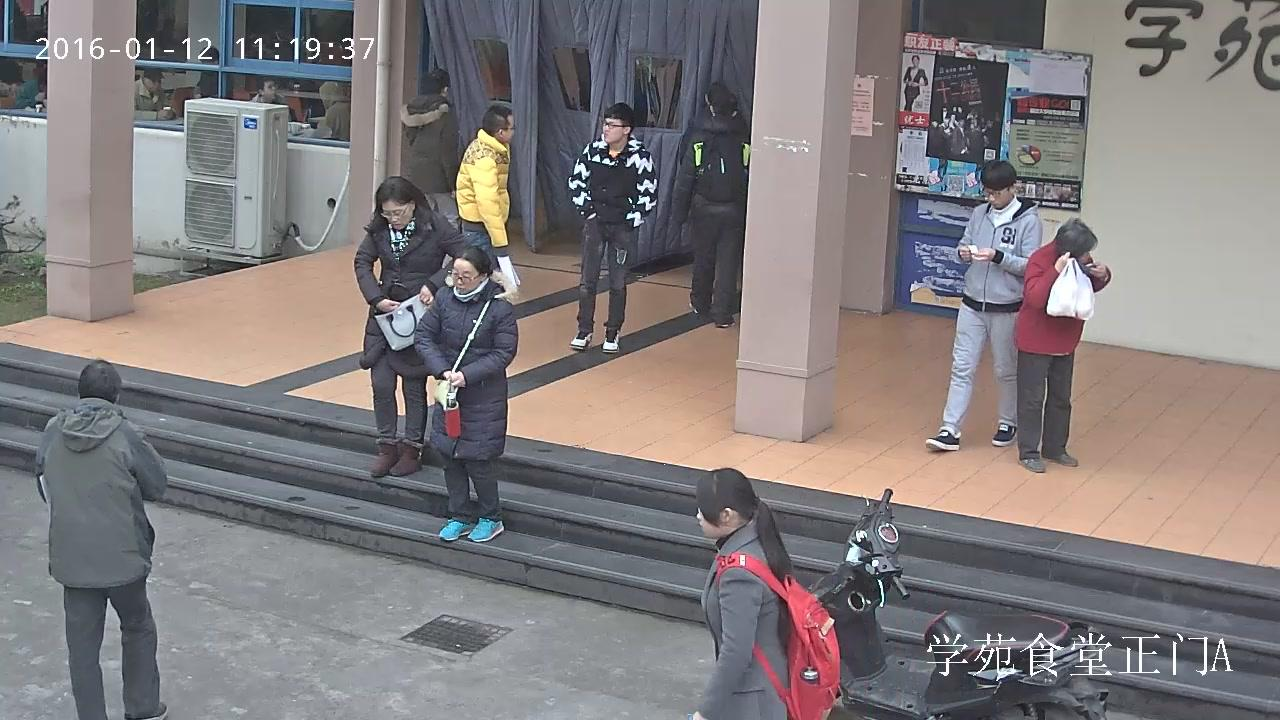person: (34, 360, 168, 720), (690, 467, 840, 720), (924, 159, 1043, 449), (353, 175, 466, 477), (414, 245, 518, 542), (1011, 218, 1111, 473), (567, 101, 660, 354), (673, 89, 751, 327), (456, 104, 520, 296), (400, 67, 459, 228), (133, 68, 177, 120), (315, 80, 349, 141), (197, 46, 233, 100), (903, 54, 928, 111), (11, 68, 46, 108)
